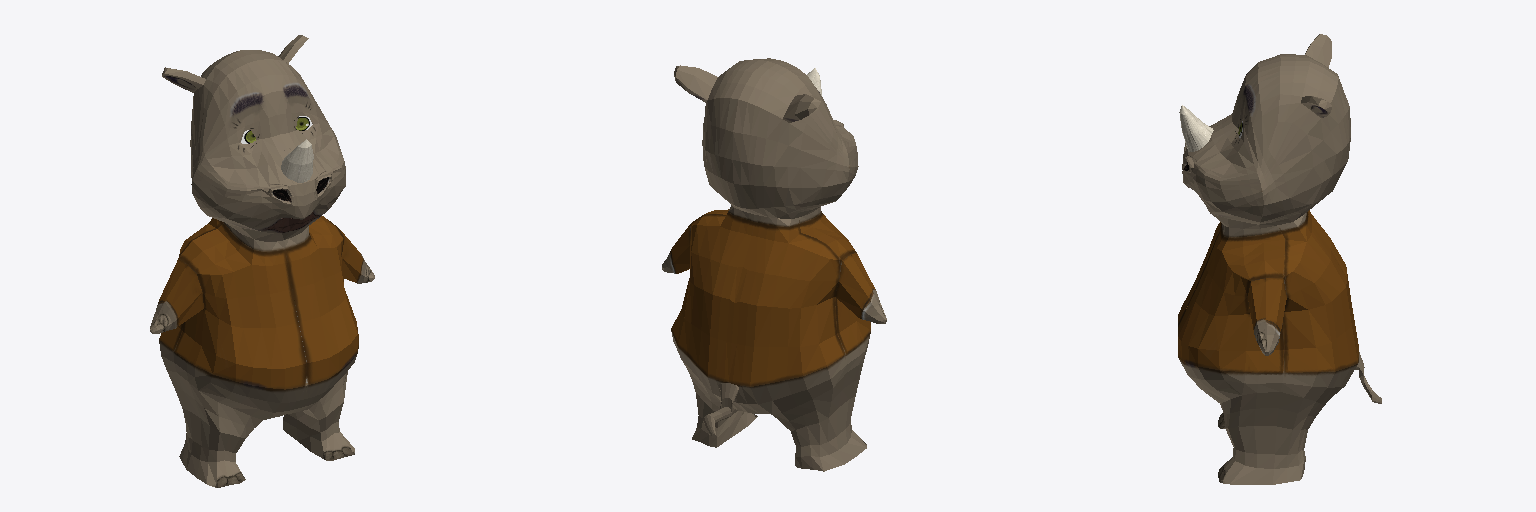
3 renders of one model, left to right at view 1: azimuth 30°, elevation 25°; view 2: azimuth 150°, elevation 25°; view 3: azimuth 270°, elevation 25°, orthographic.
Visible parts, largest first — view 1: body_Plane.001, horn_Cone; view 2: body_Plane.001, tail_Cylinder; view 3: body_Plane.001, horn_Cone.
Boxes of the visible parts, <box> form: body_Plane.001: <box>150,35,374,487</box>; horn_Cone: <box>281,139,313,182</box>; body_Plane.001: <box>662,58,886,471</box>; tail_Cylinder: <box>703,383,738,438</box>; body_Plane.001: <box>1178,34,1358,484</box>; horn_Cone: <box>1179,105,1213,151</box>.
Size of the model in its own units: 1.42 by 2.37 by 1.12.
Materials: 4 (4 with a texture image).